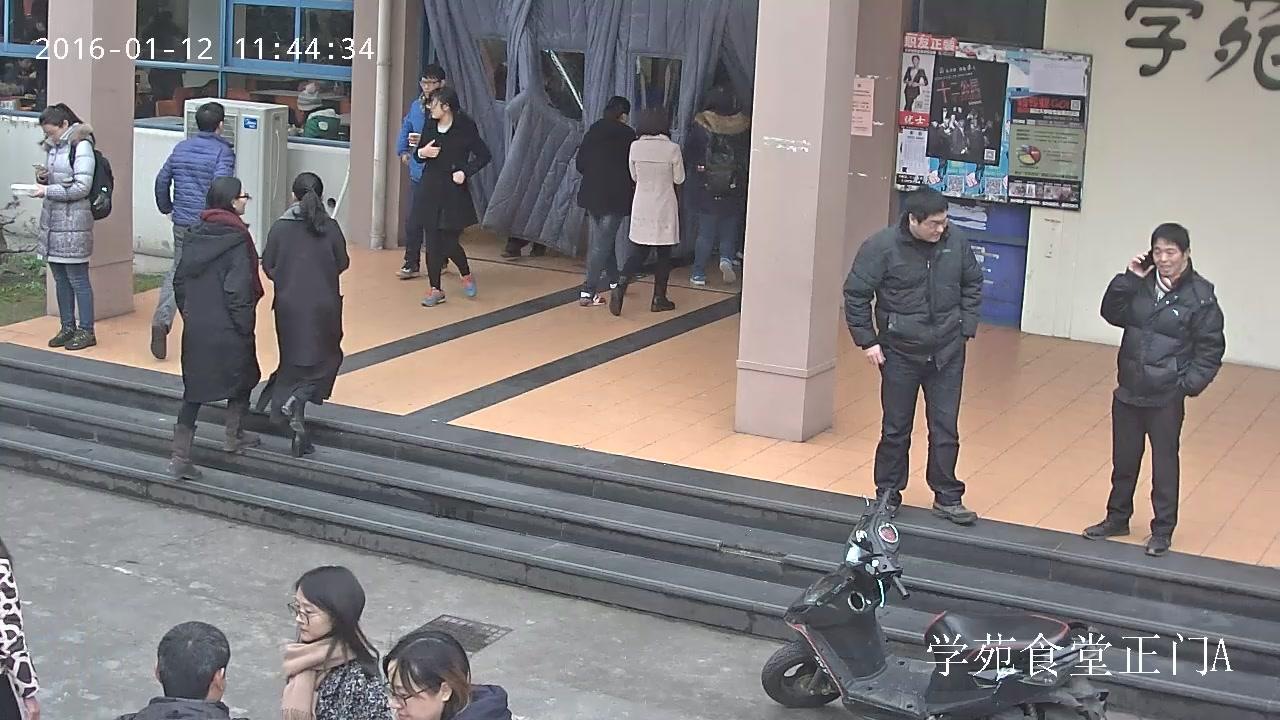person: (1083, 222, 1225, 555), (842, 189, 983, 524), (166, 176, 264, 479), (257, 172, 349, 456), (11, 103, 114, 350), (150, 102, 234, 359), (279, 565, 396, 719), (412, 86, 491, 306), (607, 113, 685, 317), (684, 88, 751, 285), (576, 95, 637, 305), (394, 65, 446, 279), (288, 82, 340, 138), (903, 55, 927, 113)
